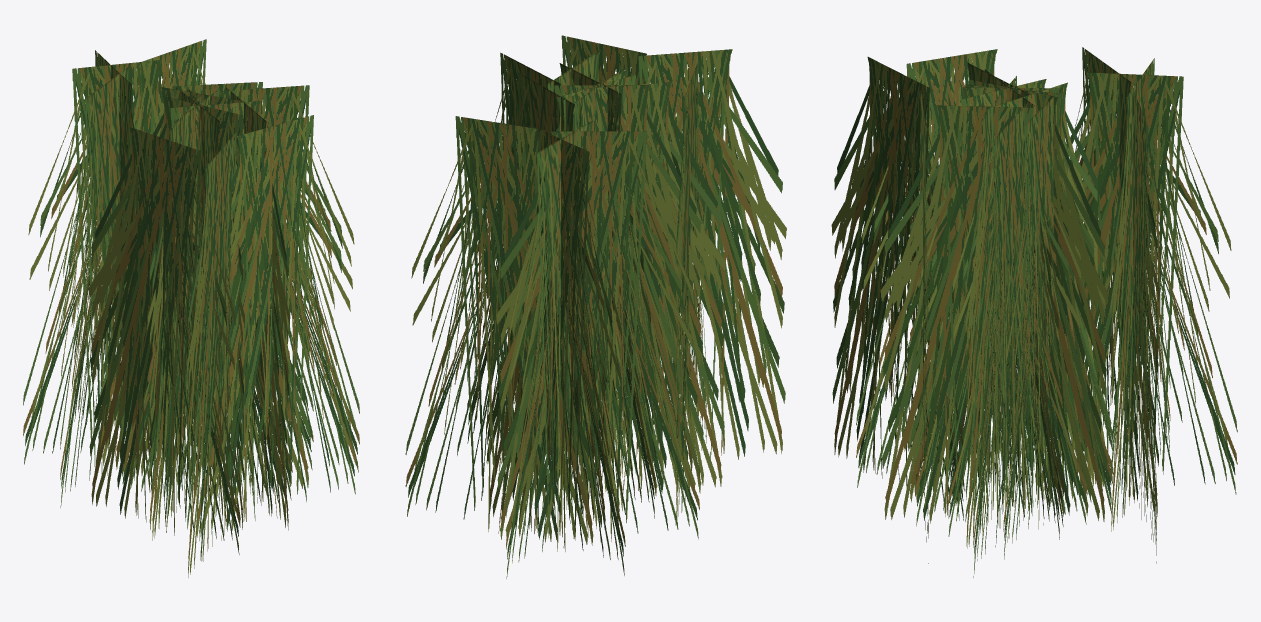
The model's file is grasbueschel_4.glb.
3 renders of one model, left to right at view 1: azimuth 30°, elevation 25°; view 2: azimuth 150°, elevation 25°; view 3: azimuth 270°, elevation 25°, orthographic. The views are drawn at different scales.
Parts seen in each view (by area): view 1: grasbueschel_4_n1; view 2: grasbueschel_4_n1; view 3: grasbueschel_4_n1.
Part boxes in pixels (x1,y1,x2,y2): grasbueschel_4_n1: (23,39,359,577); grasbueschel_4_n1: (405,35,786,578); grasbueschel_4_n1: (831,47,1237,577).
Bounding box in the file's own units: 0.4656 × 0.686 × 0.581.
1 material, 1 textured.
